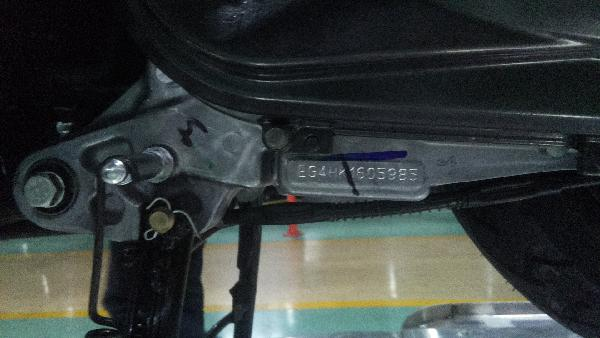box: (296, 164, 418, 182)
